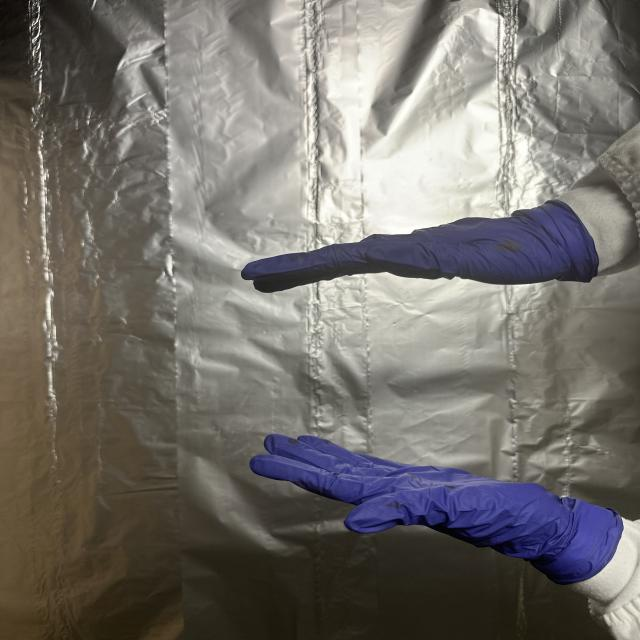gloves_contaminated: (250, 435, 622, 584), (241, 201, 599, 292)
